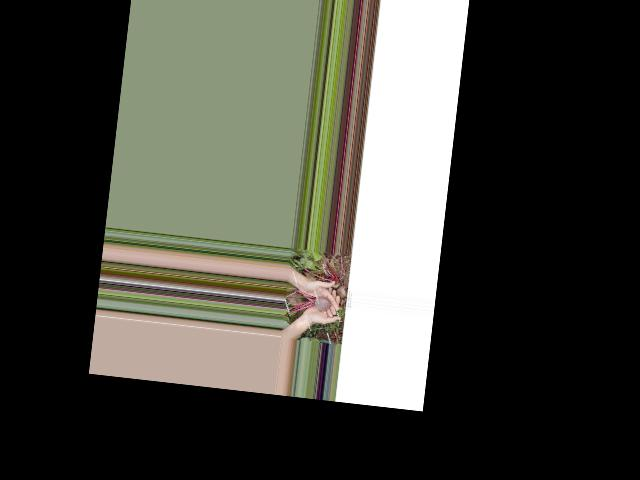beet: (285, 288, 333, 321)
